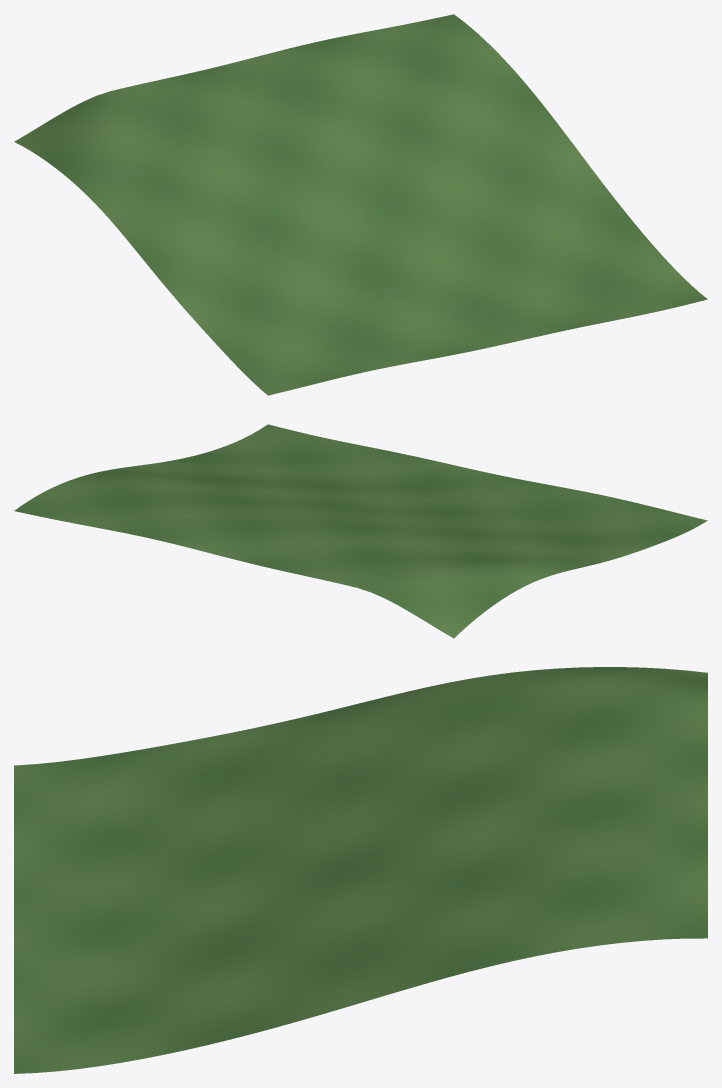
Rendered from chunk_5_0.glb.
3 renders of one model, top to bottom at view 1: azimuth 30°, elevation 25°; view 2: azimuth 150°, elevation 25°; view 3: azimuth 270°, elevation 25°, orthographic. The views are drawn at different scales.
Bounding box in the file's own units: 512 × 118 × 512.
